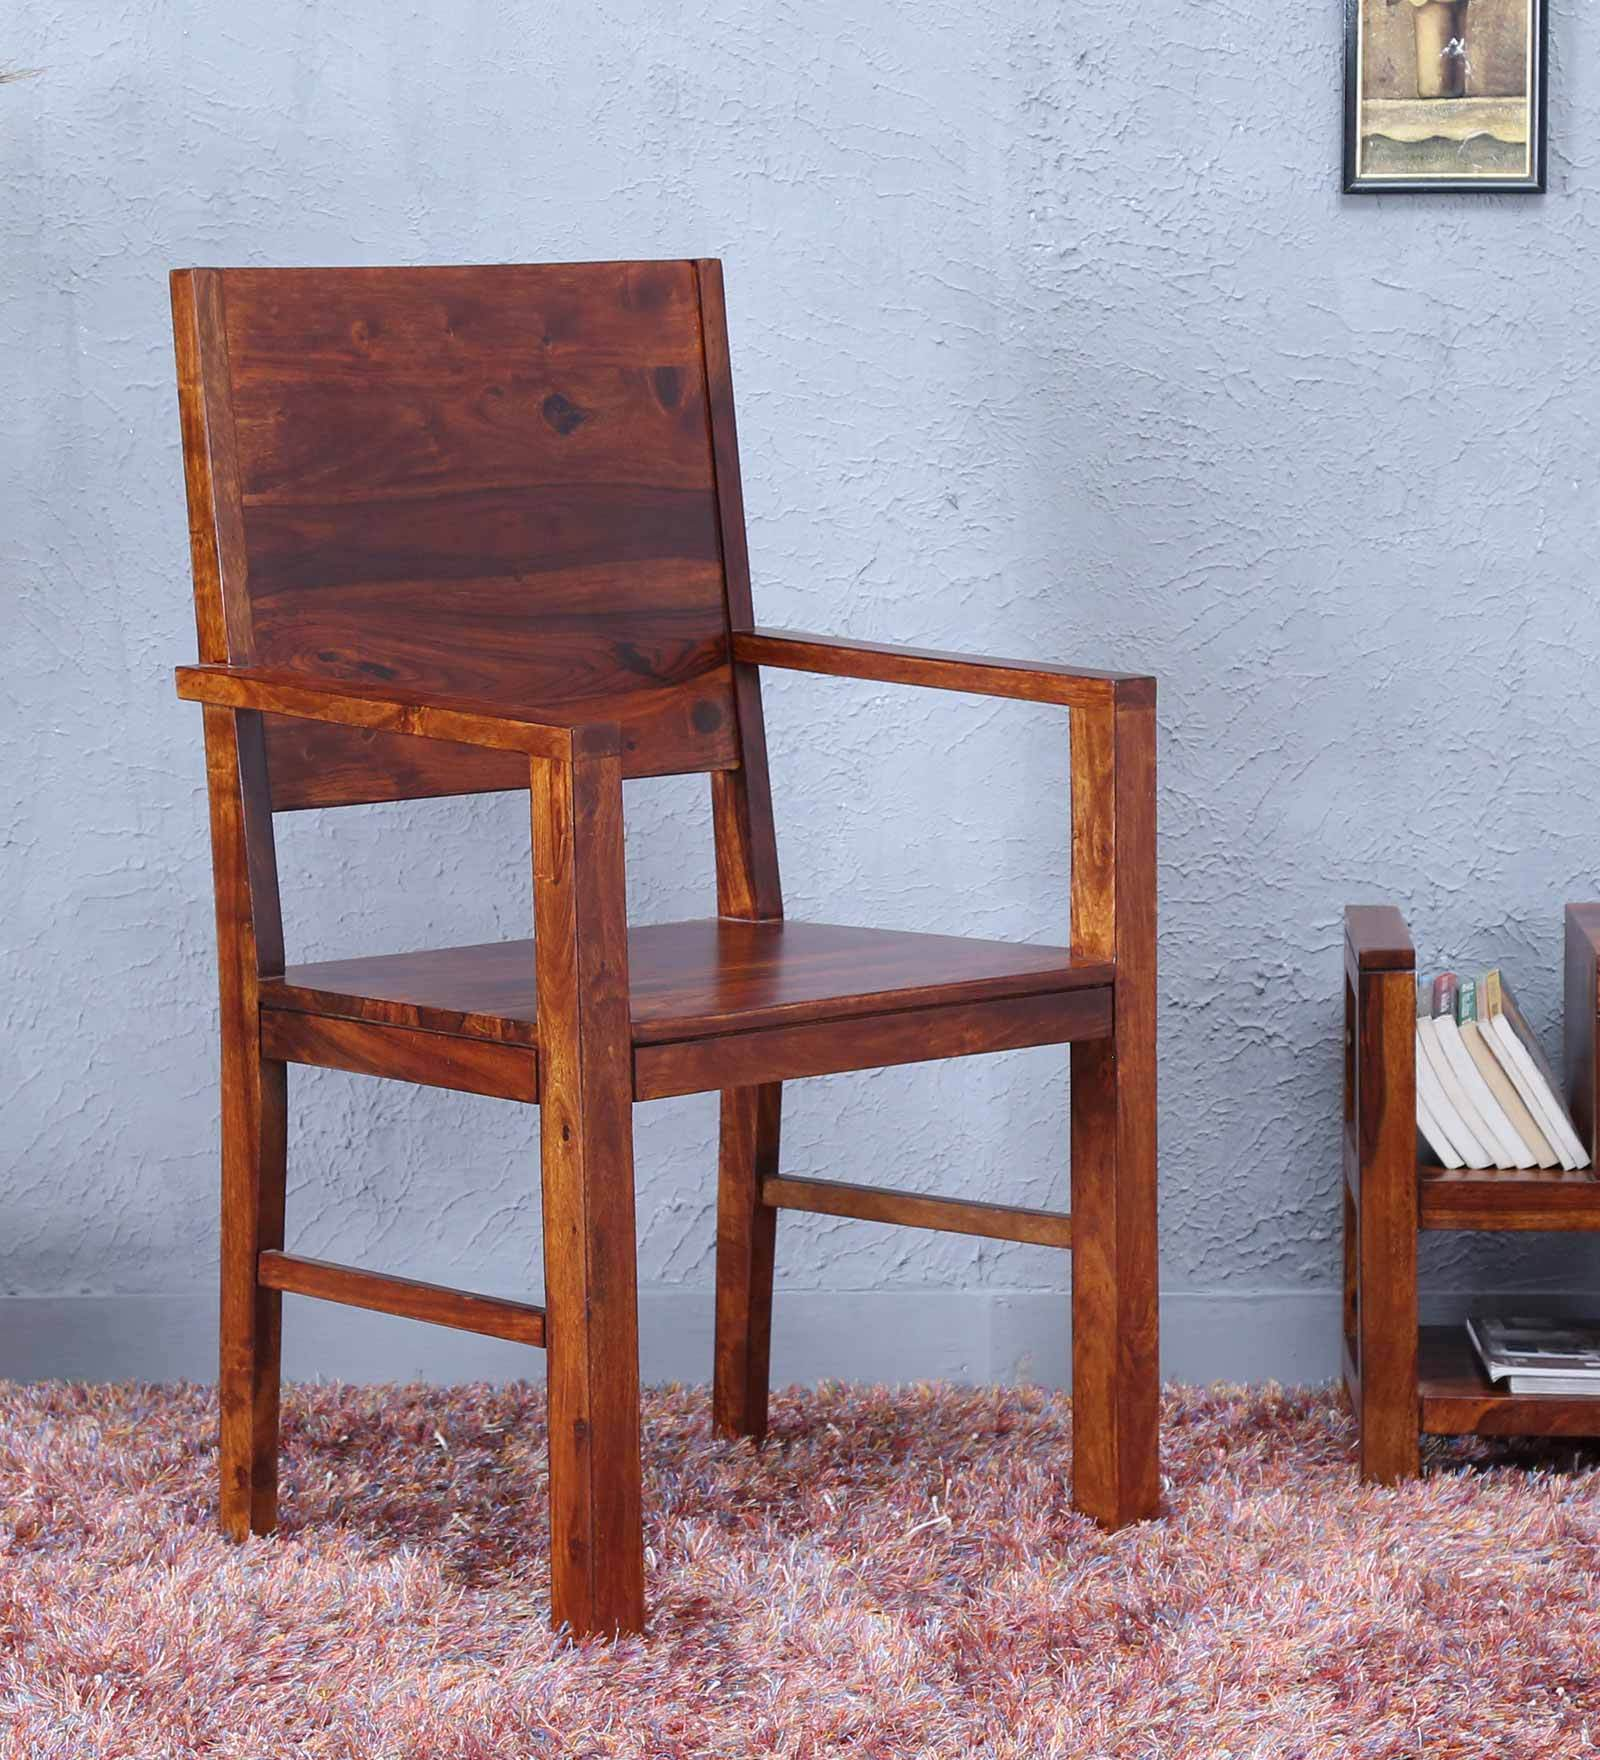Oriel Arm Chair in Honey oak Finish by Woodsworth: (166, 258, 1166, 1627)
